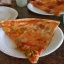pizza: (3, 13, 60, 59)
